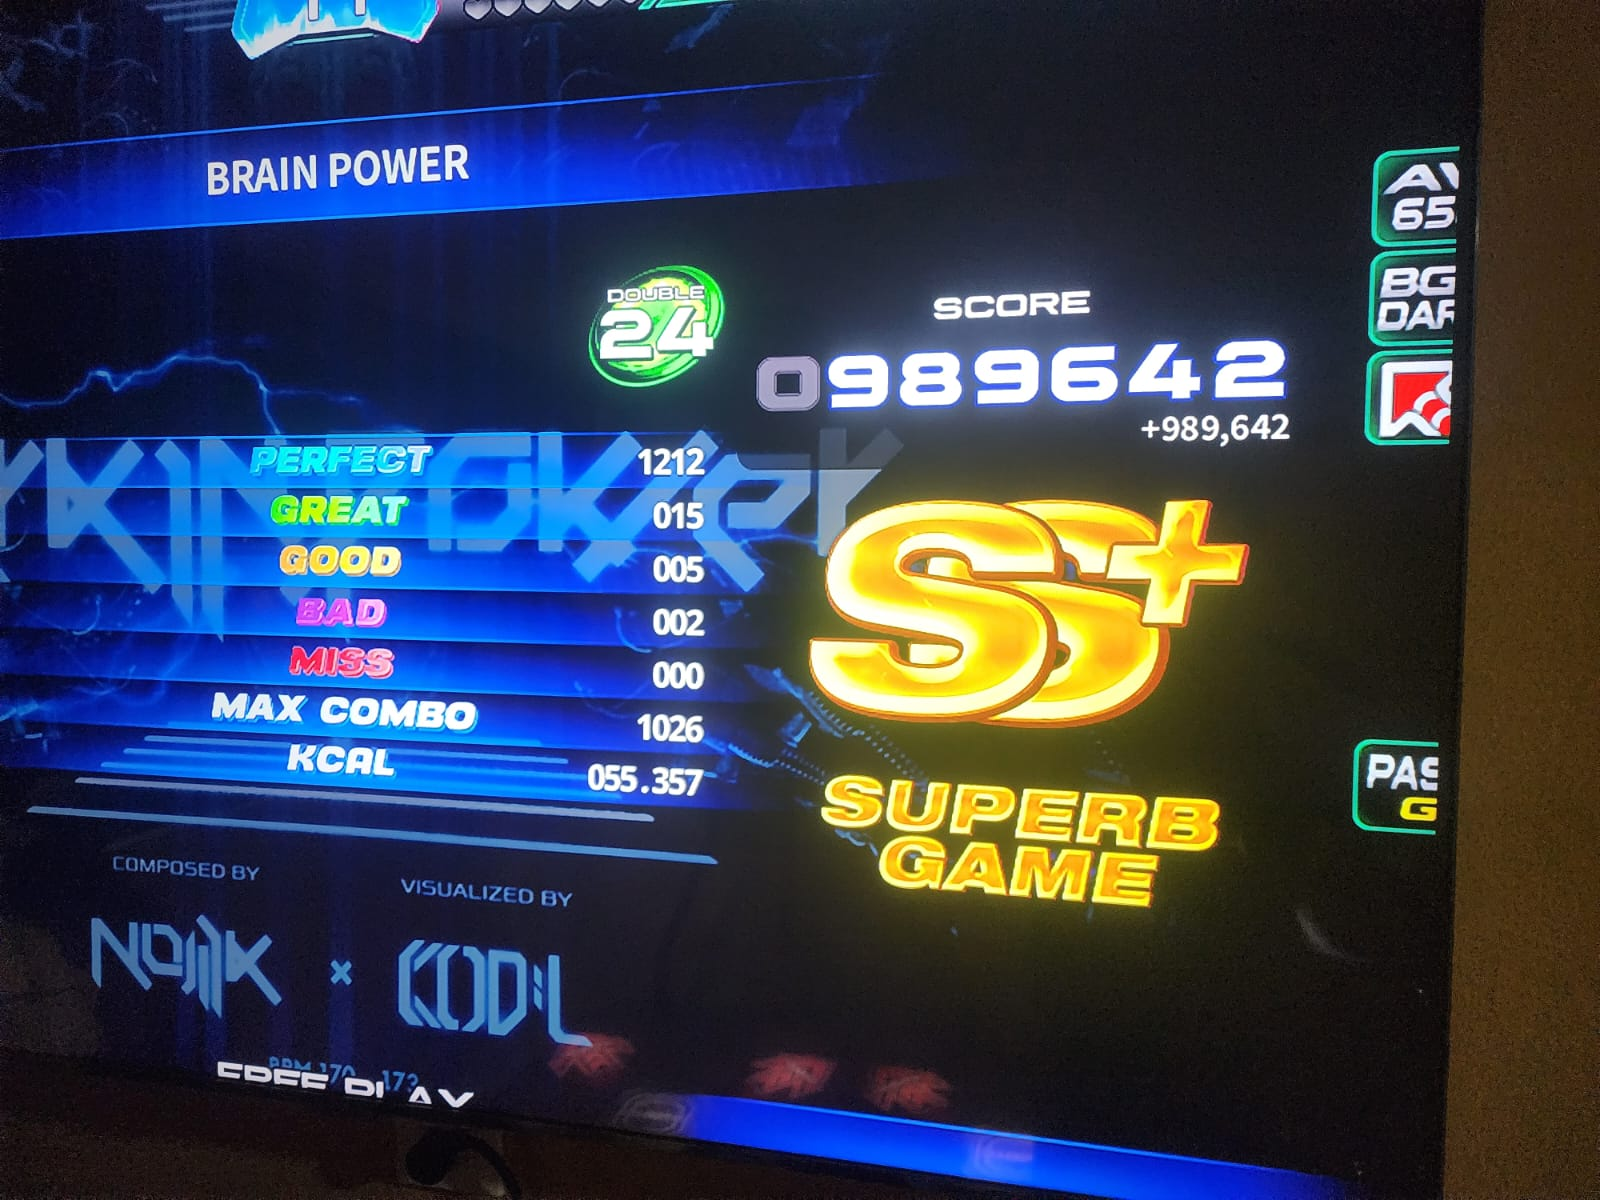difficulty: (576, 252, 727, 379)
fullscore: (14, 59, 1600, 1200)
rank: (799, 483, 1284, 724)
score: (769, 258, 1327, 453)
song_name: (38, 107, 763, 211)
